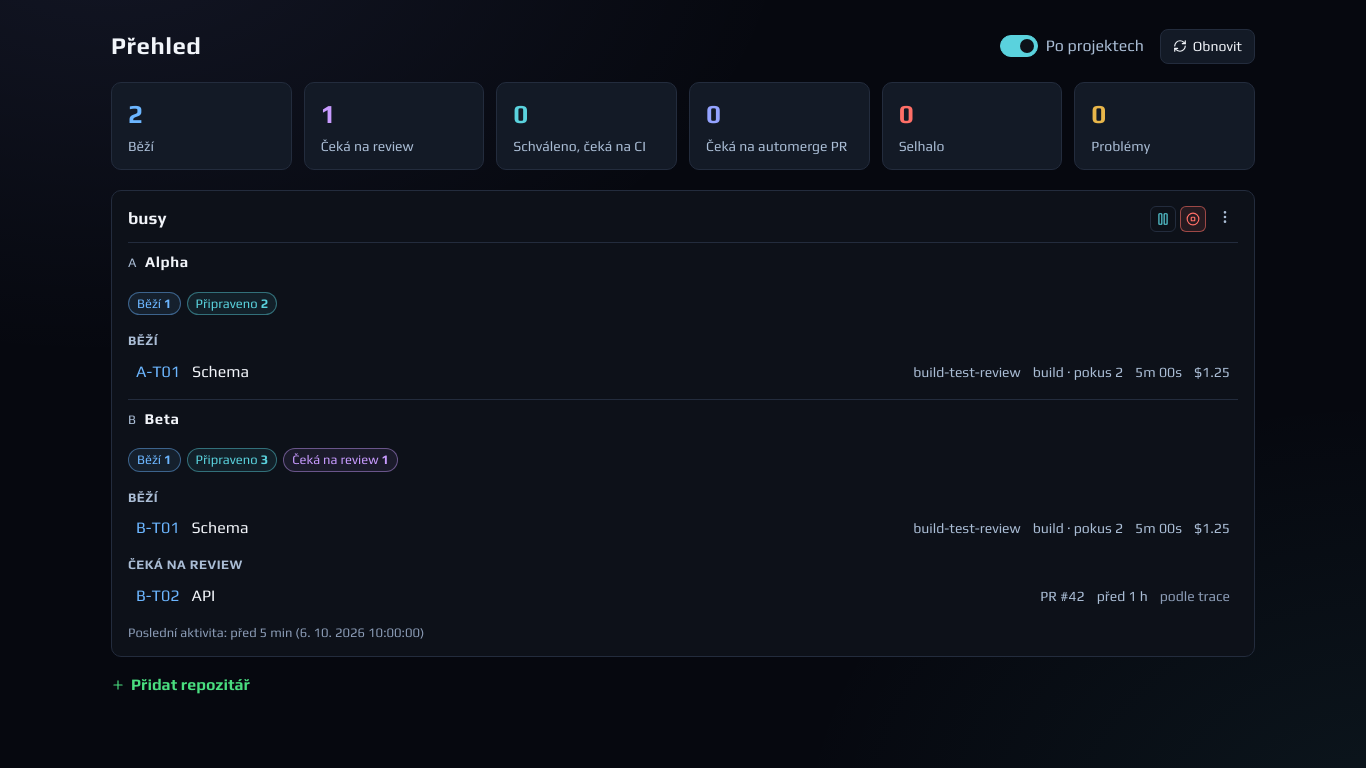
Test: OverviewView › toggles busy project rows and chips through the header switch
The width and height of the screenshot is (1366, 768).
Expected: the text "2" below "Alpha" is shown, [261,296,268,310]
Expected: the text "3" is shown, [261,452,268,467]
Step 1. Click the switch with test id "by-project" → x=1019, y=46, box [1000,35,1038,57]
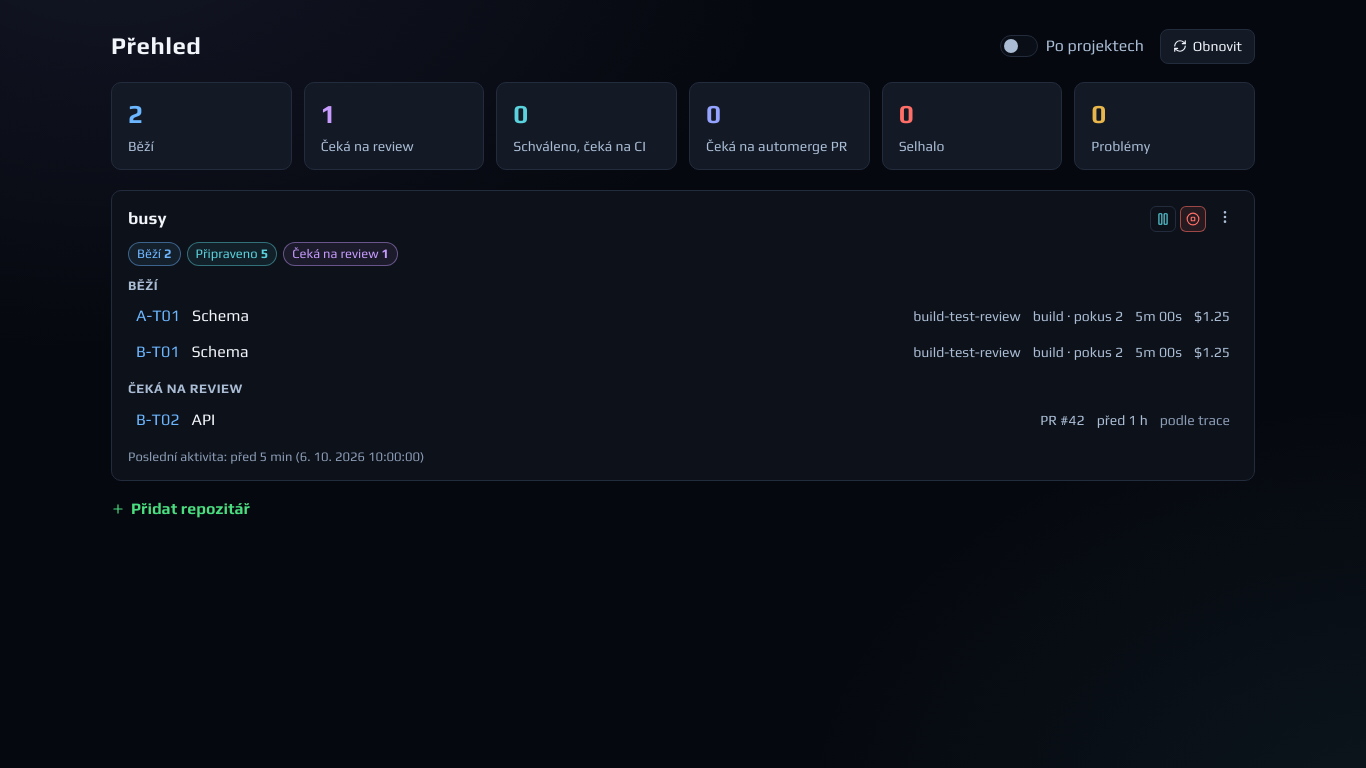
Expected: the text "2" next to "Připraveno" is shown, [164,246,172,261]
Expected: the number of elements with test id "task-summary" is 1, [128,242,398,266]
Expected: the text "5" is shown, [261,246,268,261]
Step 2. Click the switch with test id "by-project" → x=1019, y=46, box [1000,35,1038,57]
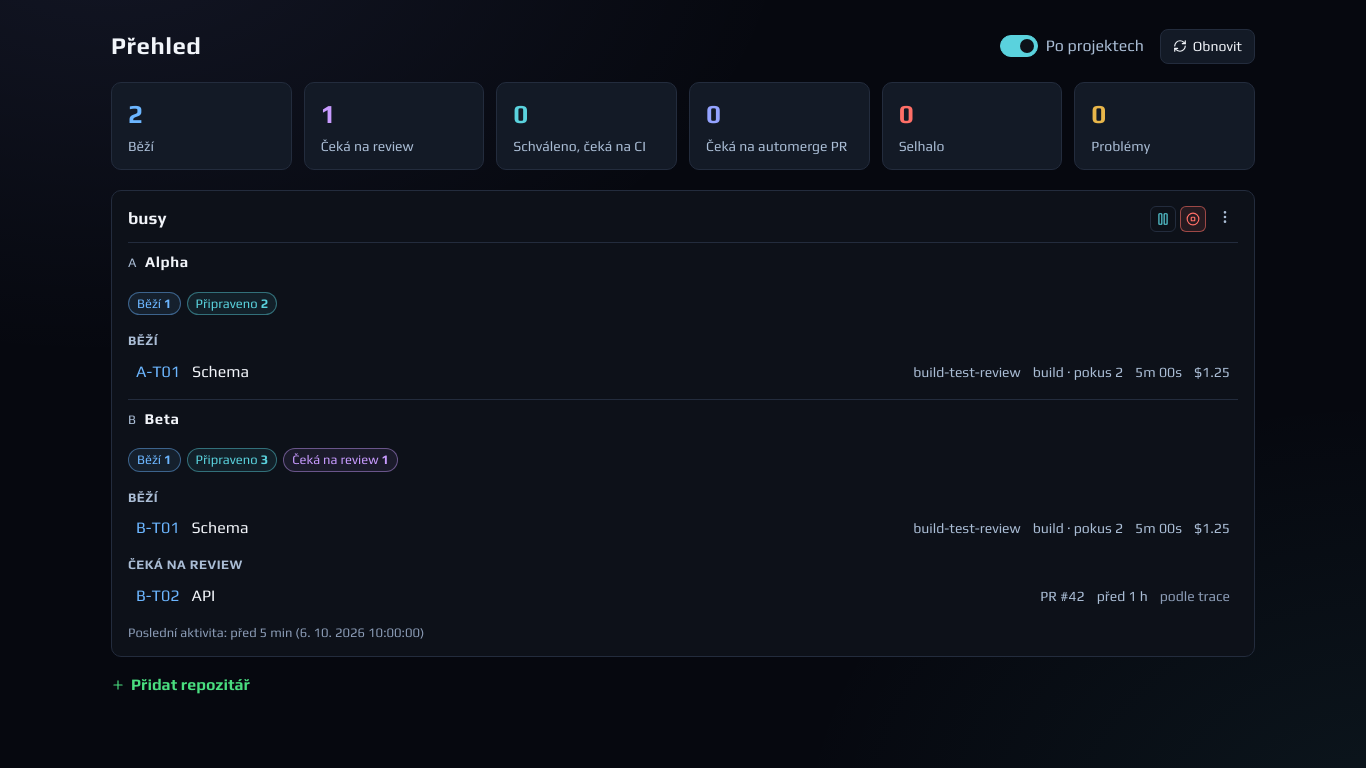
Expected: the text "2" below "Alpha" is shown, [261,296,268,310]
Expected: the text "3" is shown, [261,452,268,467]
Expected: the number of elements with test id "task-summary" is 2, [128,292,277,315]; [128,448,398,472]
